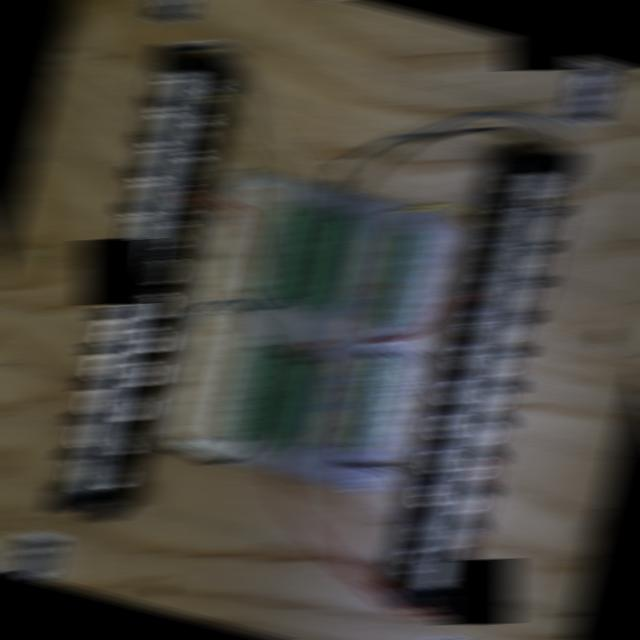Flathead_Block: (391, 139, 579, 621)
Phillips_Block: (45, 41, 229, 524)
Terminal_1: (339, 351, 395, 453), (370, 226, 424, 329)
Terminal_2: (284, 209, 336, 306), (277, 357, 329, 453), (255, 204, 306, 301), (313, 216, 364, 313), (250, 352, 301, 448)
